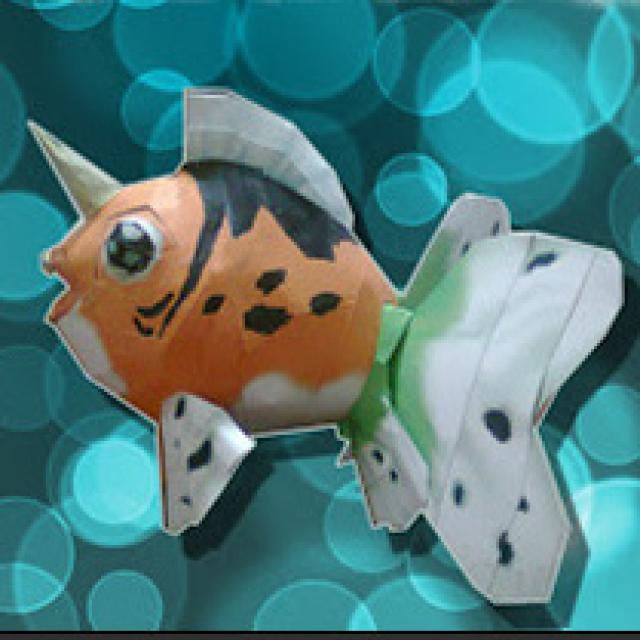Seaking: (28, 96, 590, 524)
